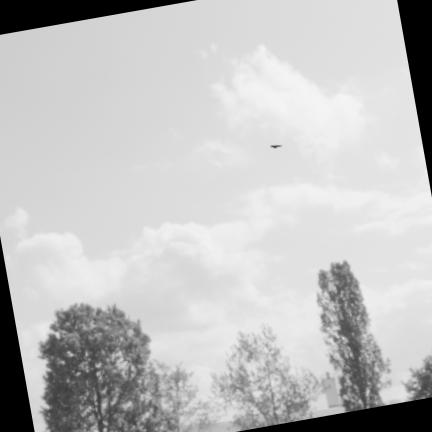Shahed: (271, 145, 281, 148)
